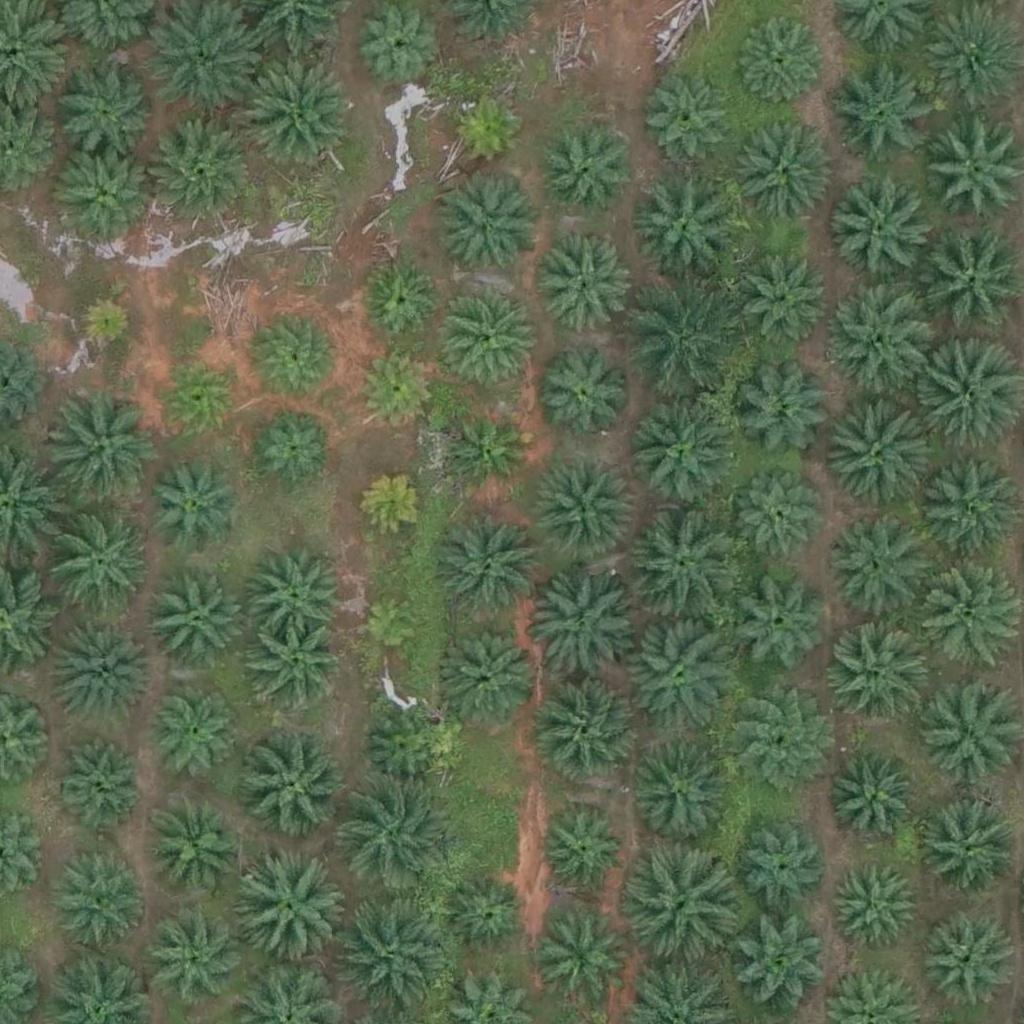Kelapa_Sawit: (625, 622, 738, 736), (432, 506, 545, 620), (339, 899, 452, 1013), (236, 727, 349, 841), (907, 559, 1020, 672), (628, 504, 741, 617), (625, 841, 738, 954), (530, 572, 643, 685), (229, 855, 342, 968), (823, 287, 936, 400), (626, 168, 739, 281), (627, 291, 740, 404), (822, 409, 934, 523), (240, 58, 352, 172), (142, 115, 254, 229), (342, 778, 454, 891), (150, 4, 262, 117), (45, 390, 157, 503), (725, 915, 825, 1016), (631, 742, 731, 843), (531, 459, 631, 560), (544, 682, 644, 783), (445, 623, 545, 724), (245, 543, 345, 644), (139, 456, 239, 557), (146, 572, 246, 673), (146, 796, 246, 897), (148, 913, 248, 1014), (52, 512, 152, 613), (49, 845, 149, 946), (923, 450, 1023, 551), (834, 61, 934, 162), (733, 358, 833, 459), (537, 117, 637, 218), (537, 227, 637, 328), (530, 350, 630, 451), (435, 179, 535, 280), (434, 287, 534, 388), (58, 60, 158, 161), (919, 688, 1019, 788), (921, 804, 1021, 904), (833, 624, 933, 724), (727, 464, 827, 564), (48, 627, 148, 727), (827, 176, 927, 276), (635, 401, 735, 501), (737, 244, 837, 344), (736, 120, 836, 220), (58, 146, 158, 246), (828, 522, 927, 623), (149, 694, 237, 783), (735, 11, 823, 100), (828, 750, 916, 838), (829, 863, 917, 951), (734, 707, 822, 795), (733, 577, 821, 665), (362, 708, 450, 796), (254, 623, 342, 711), (54, 738, 142, 826), (445, 83, 533, 171), (253, 311, 341, 399), (253, 403, 341, 491), (351, 343, 439, 431), (359, 254, 447, 342), (641, 74, 729, 162), (540, 809, 627, 898), (925, 915, 1012, 1003), (741, 822, 828, 910), (544, 924, 631, 1012), (443, 876, 530, 964), (154, 353, 241, 441), (444, 403, 531, 491), (356, 465, 431, 541), (71, 294, 134, 357), (361, 594, 423, 657)
